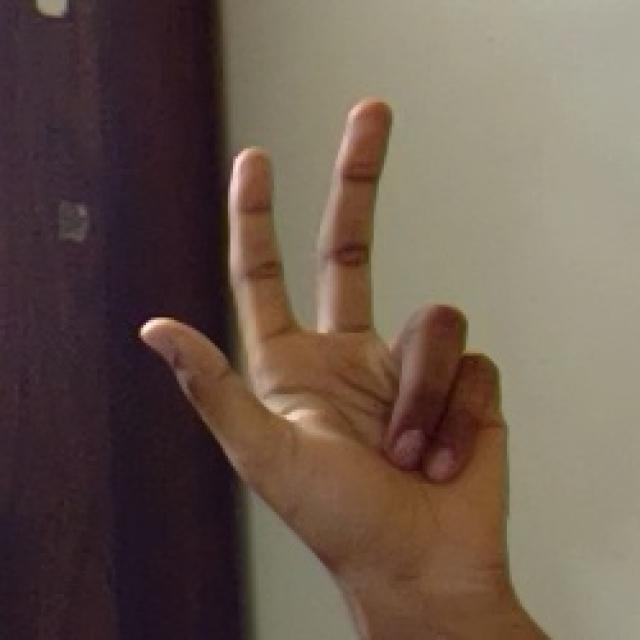Numeric-3: (130, 95, 507, 547)
